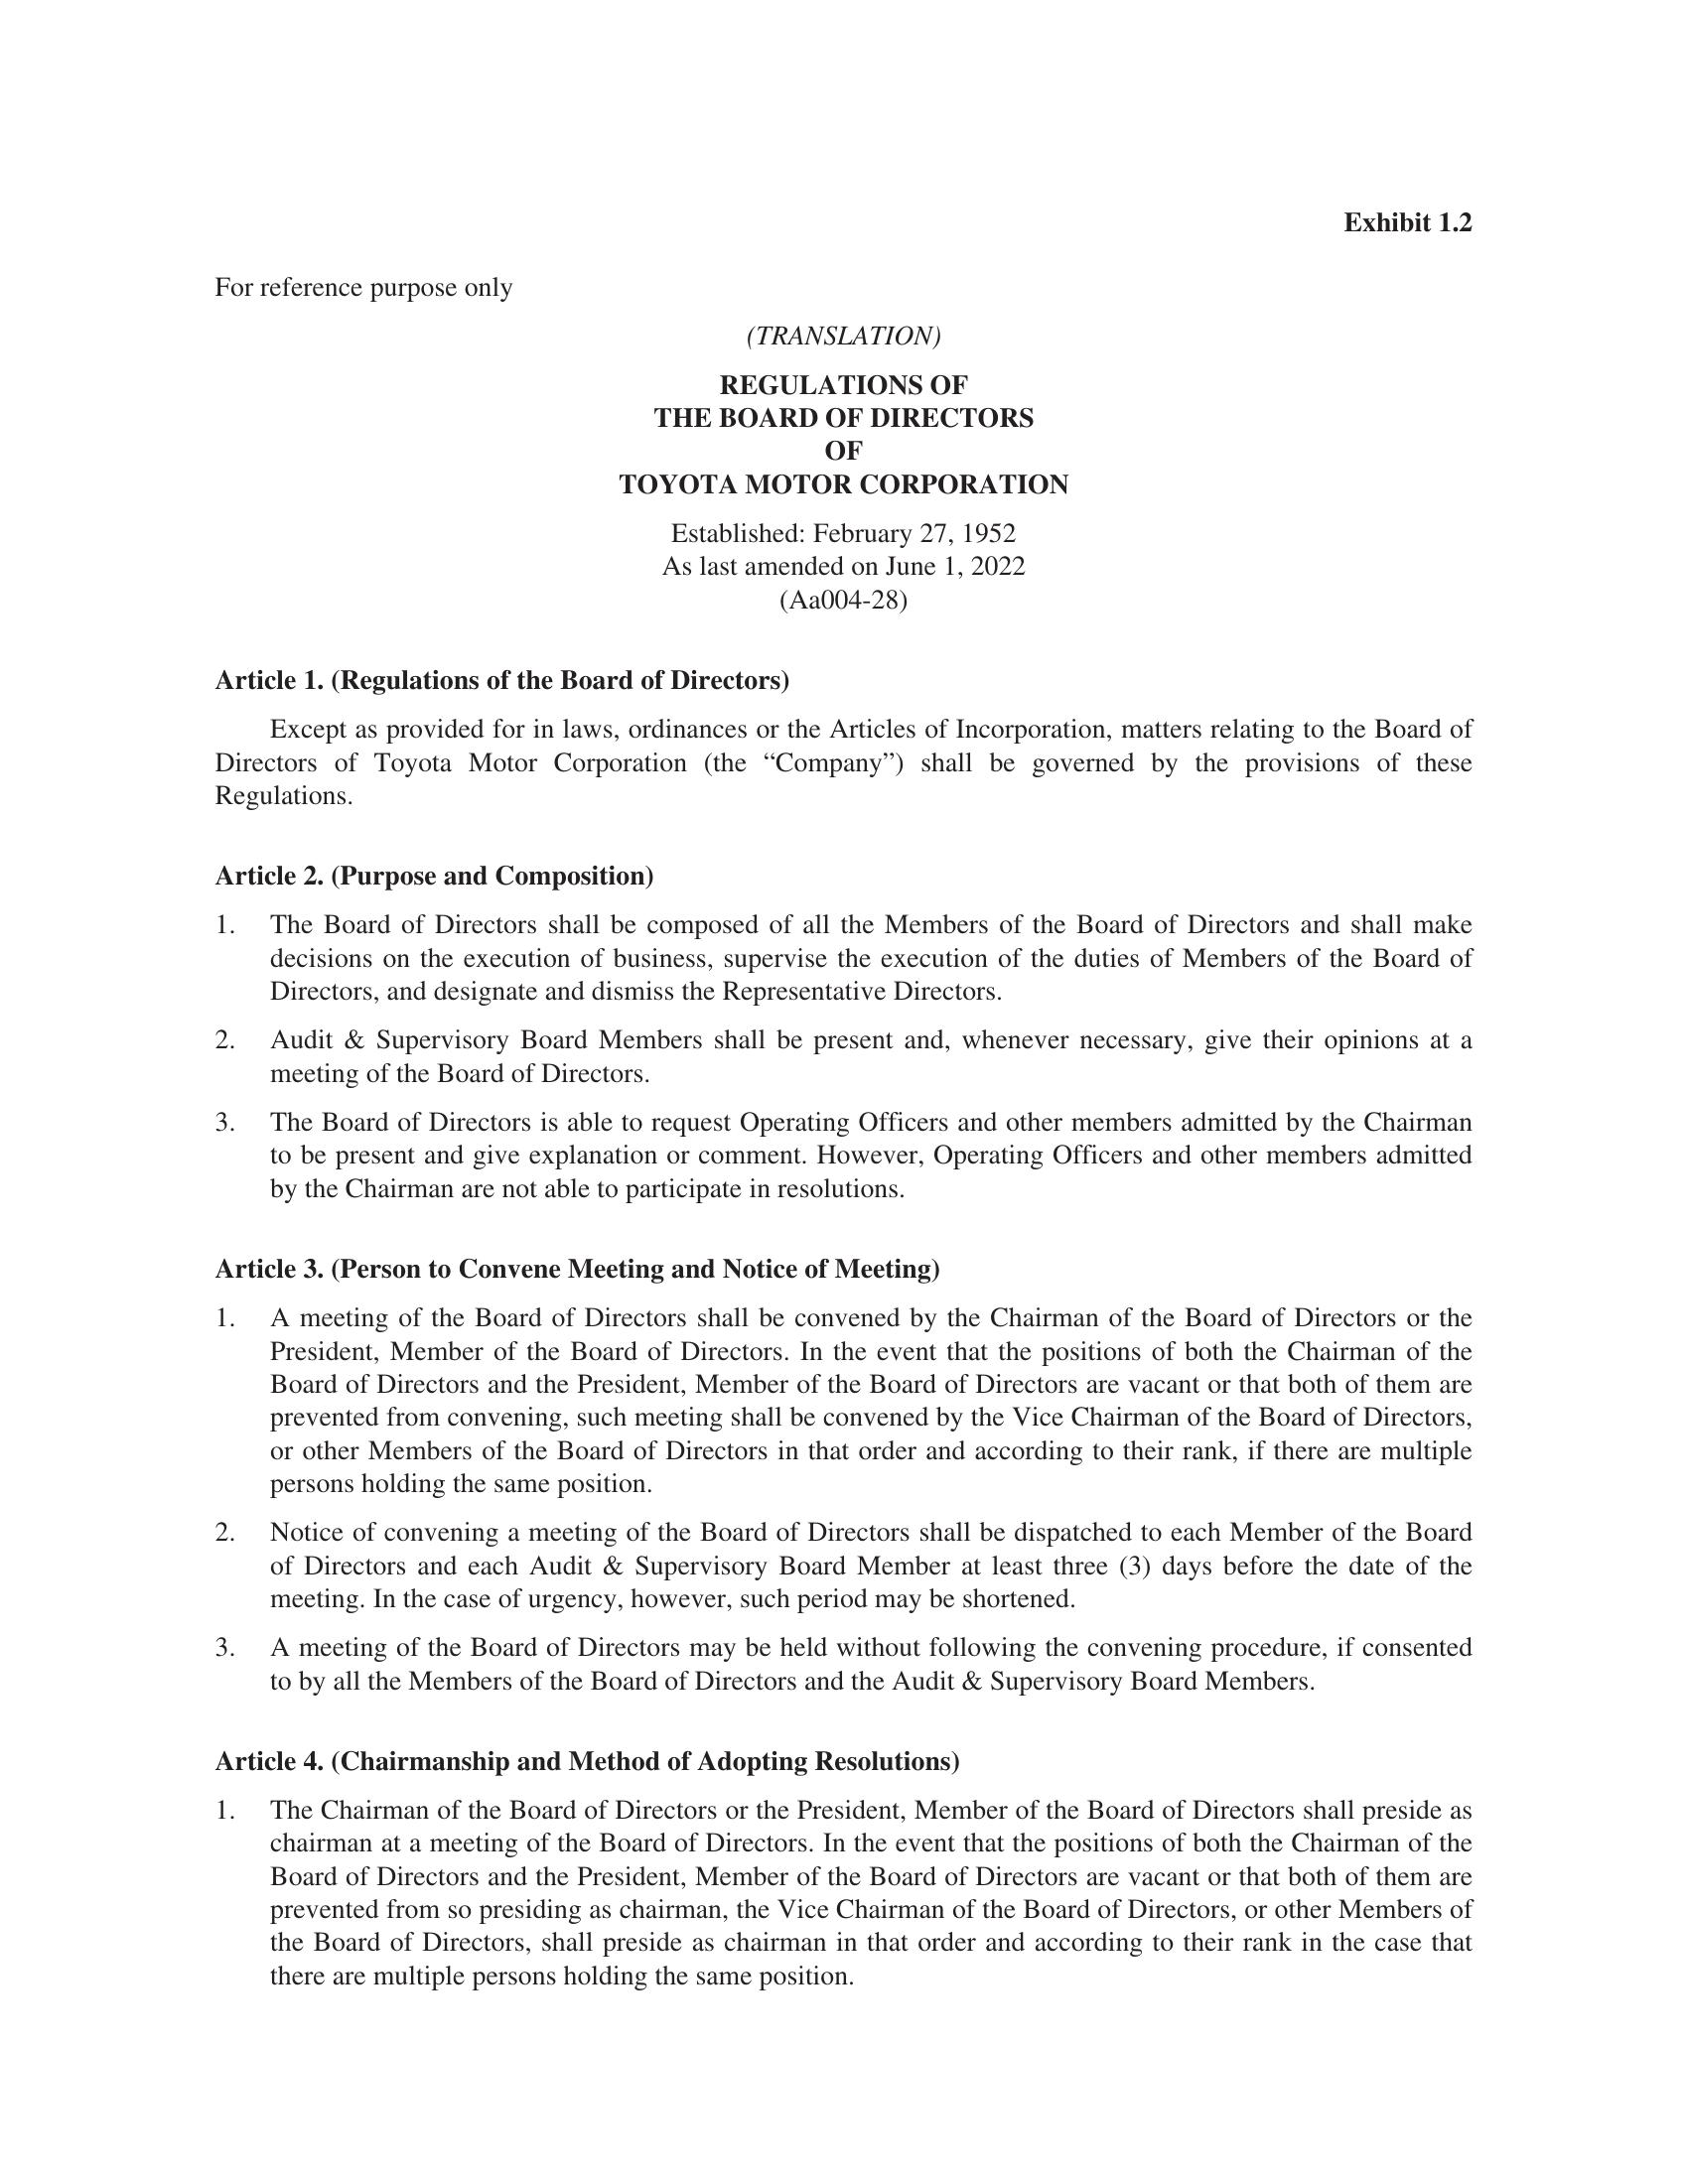Footer: (0, 2039, 1688, 2184)
Header: (0, 0, 1688, 191)
